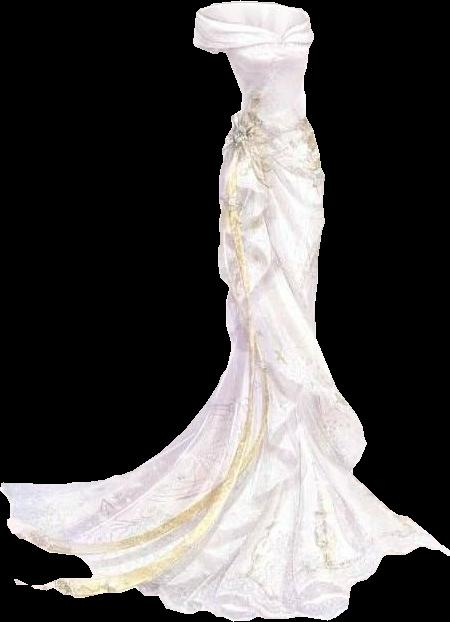Bodice: (193, 1, 313, 139)
Hemline: (0, 489, 449, 621), (218, 216, 352, 409)
Neckline: (196, 9, 313, 41)
Skirt: (1, 121, 449, 620)
Waistline: (226, 116, 313, 143), (192, 39, 311, 52)
